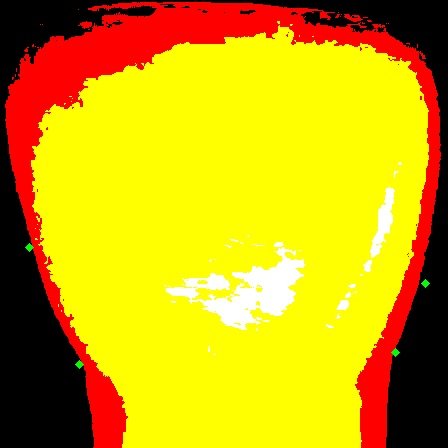coin_1: (79, 364, 99, 384)
coin_2: (29, 247, 49, 267)
coin_3: (395, 352, 415, 372)
coin_4: (425, 283, 445, 303)
